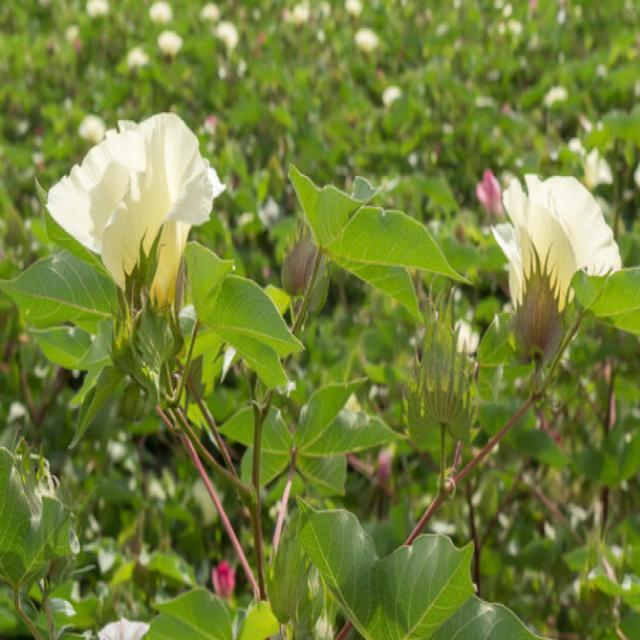Cotton Blossom: (42, 108, 225, 316), (491, 171, 623, 368)
Cotton Bud: (413, 297, 477, 449), (262, 520, 330, 640), (125, 289, 189, 392), (278, 218, 325, 299)
